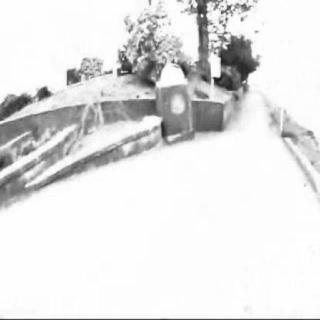other: (110, 64, 156, 154)
